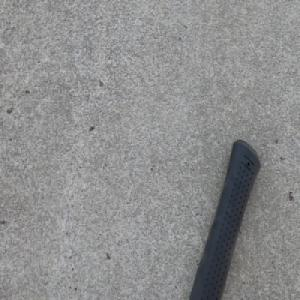Hammer: (184, 137, 262, 300)
